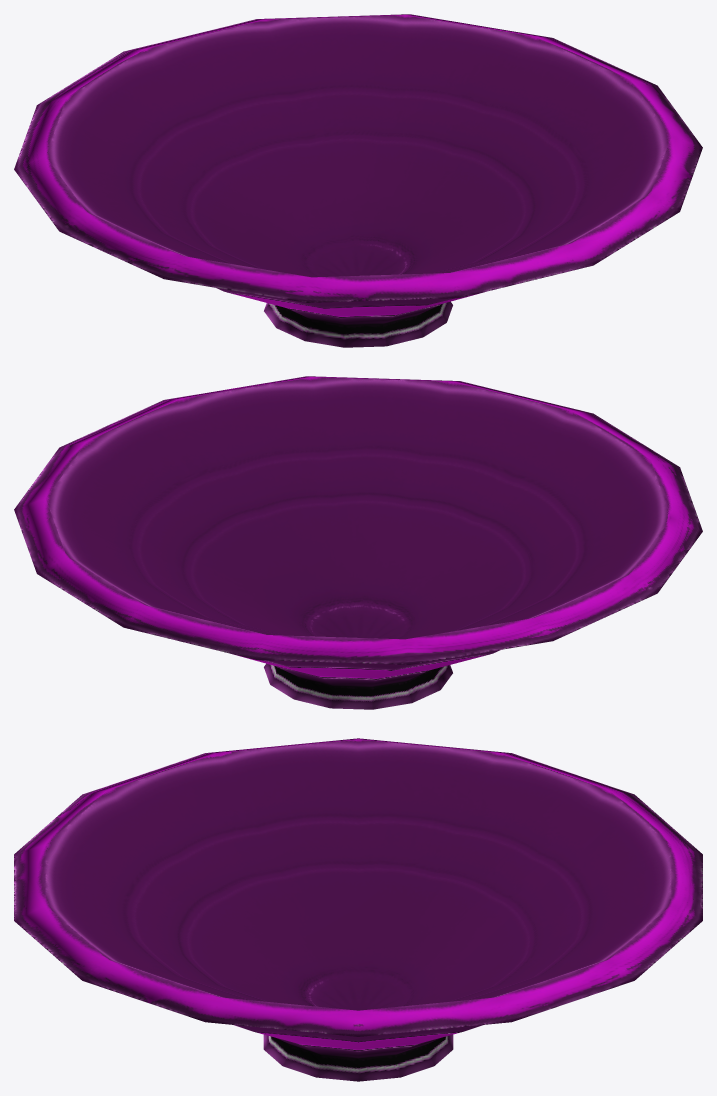
The model's file is zdela.fbx.
3 renders of one model, top to bottom at view 1: azimuth 30°, elevation 25°; view 2: azimuth 150°, elevation 25°; view 3: azimuth 270°, elevation 25°, orthographic. The views are drawn at different scales.
Parts seen in each view (by area): view 1: Rooms_01_bowl; view 2: Rooms_01_bowl; view 3: Rooms_01_bowl.
Boxes of the visible parts, x1=… form: Rooms_01_bowl: x1=14, y1=14, x2=702, y2=347; Rooms_01_bowl: x1=14, y1=376, x2=702, y2=709; Rooms_01_bowl: x1=14, y1=738, x2=702, y2=1081.
Bounding box in the file's own units: 0.2713 × 0.0702 × 0.2645.
